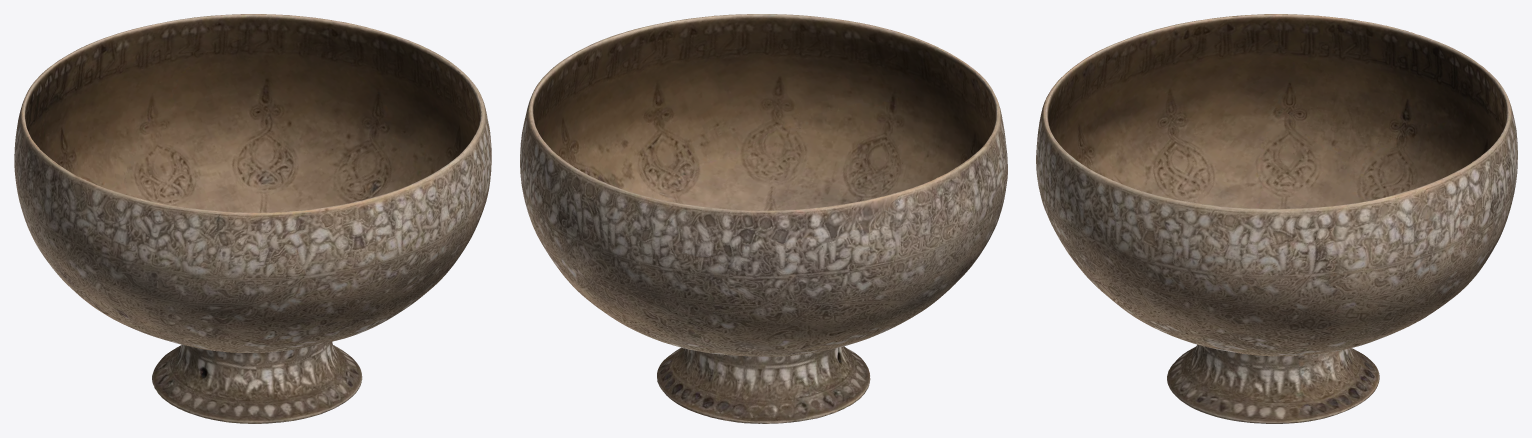
File: preview.glb
3 views of the same model, side by side, from view 1: azimuth 30°, elevation 25°; view 2: azimuth 150°, elevation 25°; view 3: azimuth 270°, elevation 25° (orthographic).
Visible parts, largest first — view 1: Object_2; view 2: Object_2; view 3: Object_2.
Boxes of the visible parts, x1,y1,x2,y2 form: Object_2: (14, 14, 491, 423); Object_2: (520, 14, 1007, 423); Object_2: (1036, 14, 1517, 423).
Bounding box in the file's own units: 16.11 × 9.93 × 16.04.
Materials: 1 (1 with a texture image).
